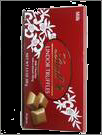grozi_64: (0, 0, 101, 134)
